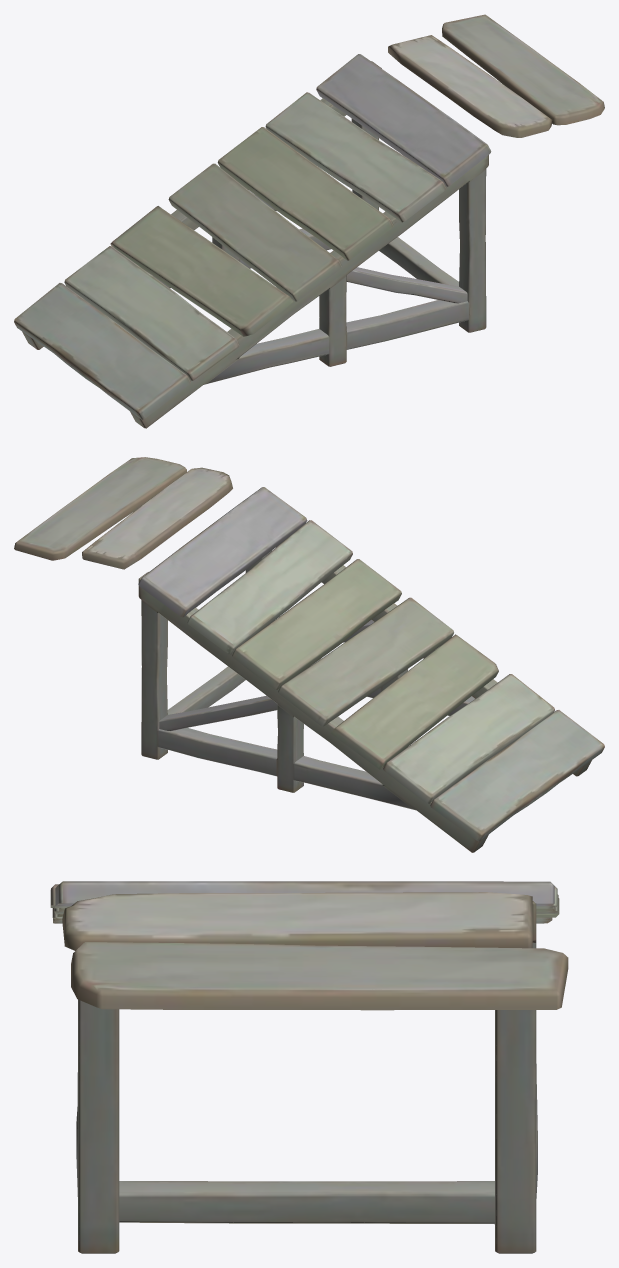
File: stairs-wood.glb
The picture shows the model from 3 angles, top to bottom: view 1: azimuth 30°, elevation 25°; view 2: azimuth 150°, elevation 25°; view 3: azimuth 270°, elevation 25°; orthographic projection. The views are drawn at different scales.
Size of the model in its own units: 38.99 by 16.49 by 18.73.
1 material, 1 textured.
